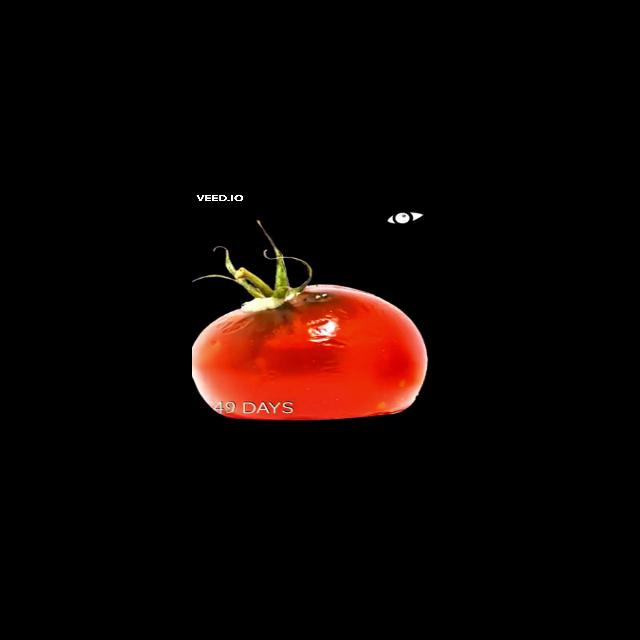tomato: (193, 266, 425, 419)
